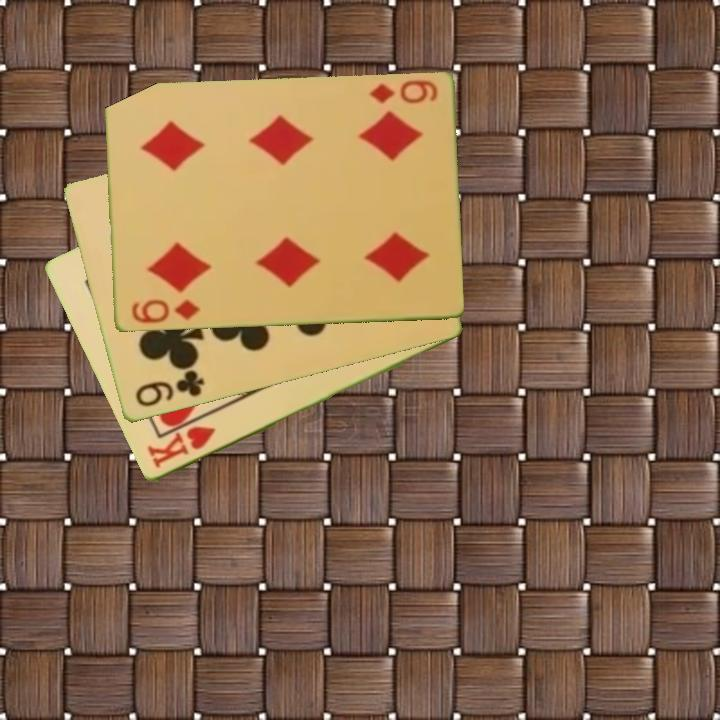6d: (128, 296, 203, 327), (364, 77, 440, 107)
9c: (131, 367, 207, 411)
Kh: (143, 423, 218, 472)
